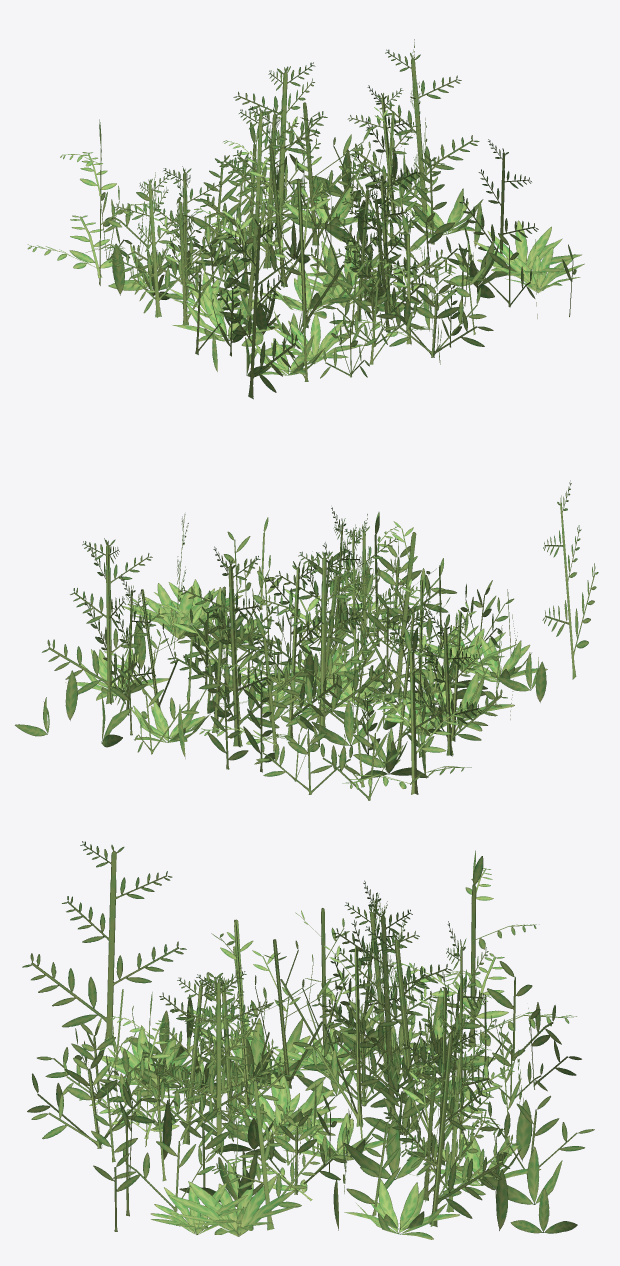
The model's file is LeafSetA_23.fbx.
3 views of the same model, one above another, from view 1: azimuth 30°, elevation 25°; view 2: azimuth 150°, elevation 25°; view 3: azimuth 270°, elevation 25° (orthographic). The views are drawn at different scales.
Visible parts, largest first — view 1: LeafSetA_23; view 2: LeafSetA_23; view 3: LeafSetA_23.
Boxes of the visible parts, x1,y1,x2,y2 form: LeafSetA_23: (27,39,584,399); LeafSetA_23: (15,480,598,800); LeafSetA_23: (22,841,594,1239).
Bounding box in the file's own units: 2.85 × 1.19 × 2.62.
